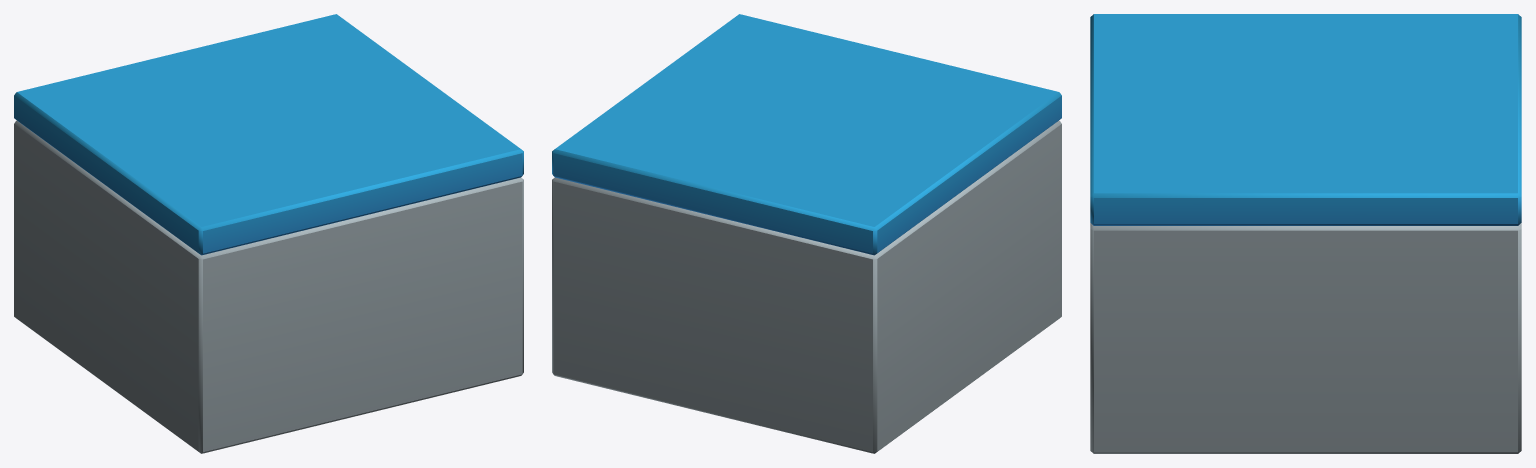
Rendered from kaykit_platform_6x6x4_blue.glb.
The picture shows the model from 3 angles, left to right: view 1: azimuth 30°, elevation 25°; view 2: azimuth 150°, elevation 25°; view 3: azimuth 270°, elevation 25°; orthographic projection. The views are drawn at different scales.
Visible parts, largest first — view 1: platform_6x6x4_blue_visual; view 2: platform_6x6x4_blue_visual; view 3: platform_6x6x4_blue_visual.
Part boxes in pixels (left/top/right/bottom): platform_6x6x4_blue_visual: left=14, top=14, right=523, bottom=453; platform_6x6x4_blue_visual: left=552, top=14, right=1061, bottom=453; platform_6x6x4_blue_visual: left=1090, top=14, right=1521, bottom=453.
Size of what is drawn, in the model's own units: 6 by 4 by 6.
1 material, 1 textured.
